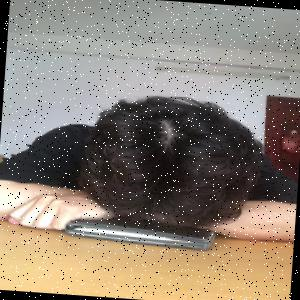sleep: (1, 87, 300, 248)
